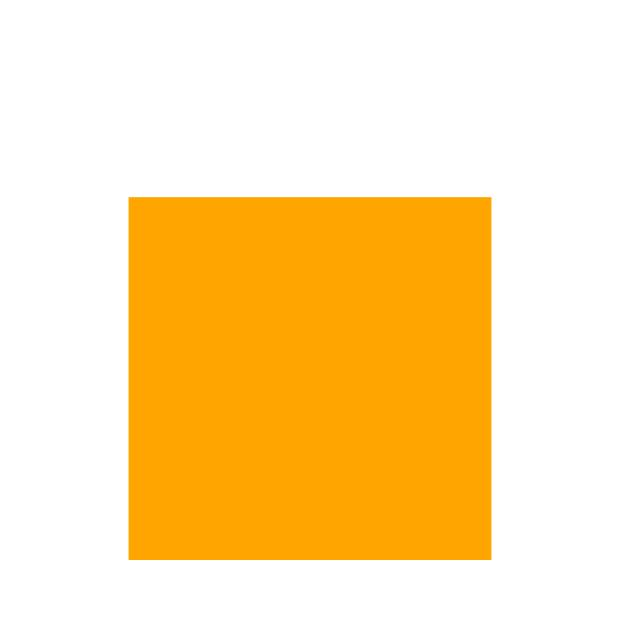square: (97, 168, 543, 593)
